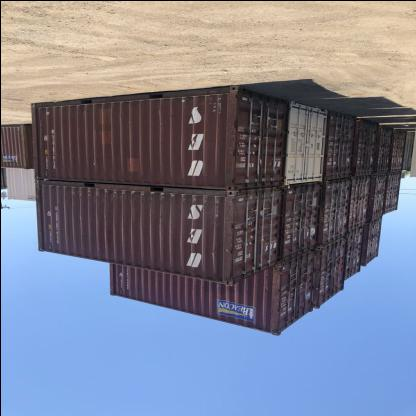Damage: (116, 186, 202, 202), (179, 92, 238, 112), (215, 194, 250, 226), (221, 118, 239, 158), (201, 246, 224, 274), (25, 170, 57, 186), (86, 156, 100, 174)
